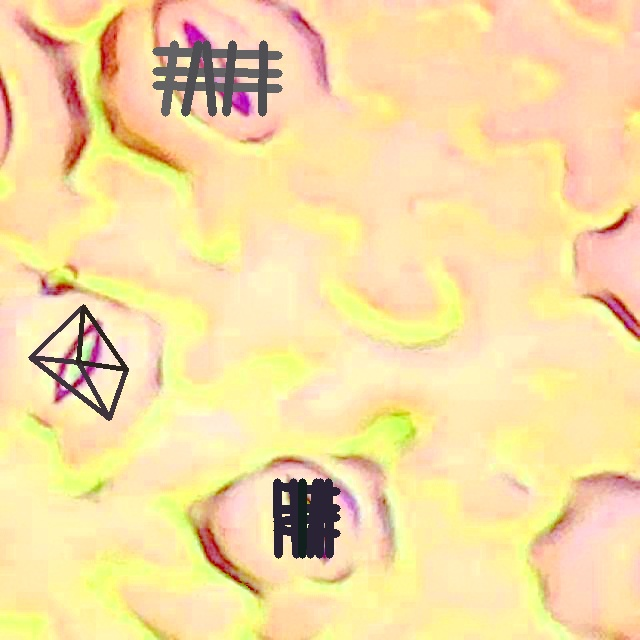open: (29, 304, 128, 419), (152, 40, 282, 116), (273, 478, 340, 558)
